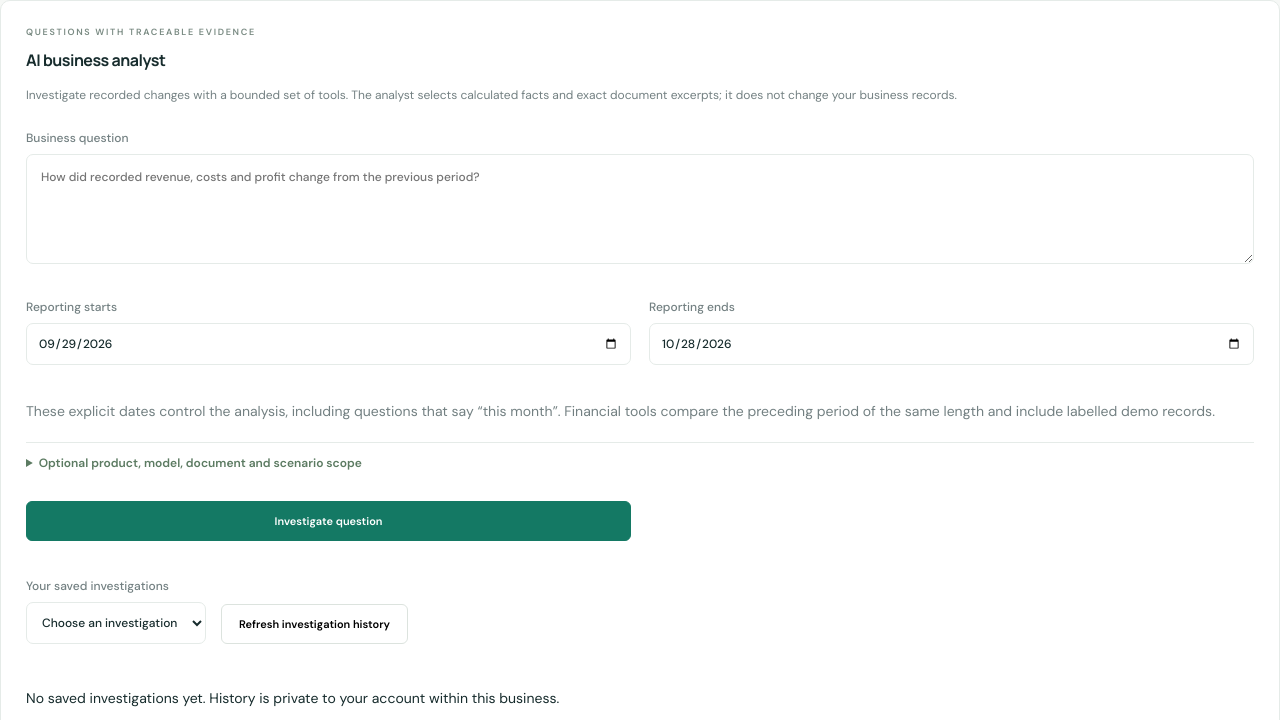
Test case: AI analyst › reports actual provider errors and reloads history without a fabricated answer
The image size is (1280, 720).
Expected: the text "No saved investigations yet" is shown, [26, 689, 559, 707]
Replace the text in the text box labelled "Business question" with "What changed?": (640, 209) [26, 154, 1254, 264]
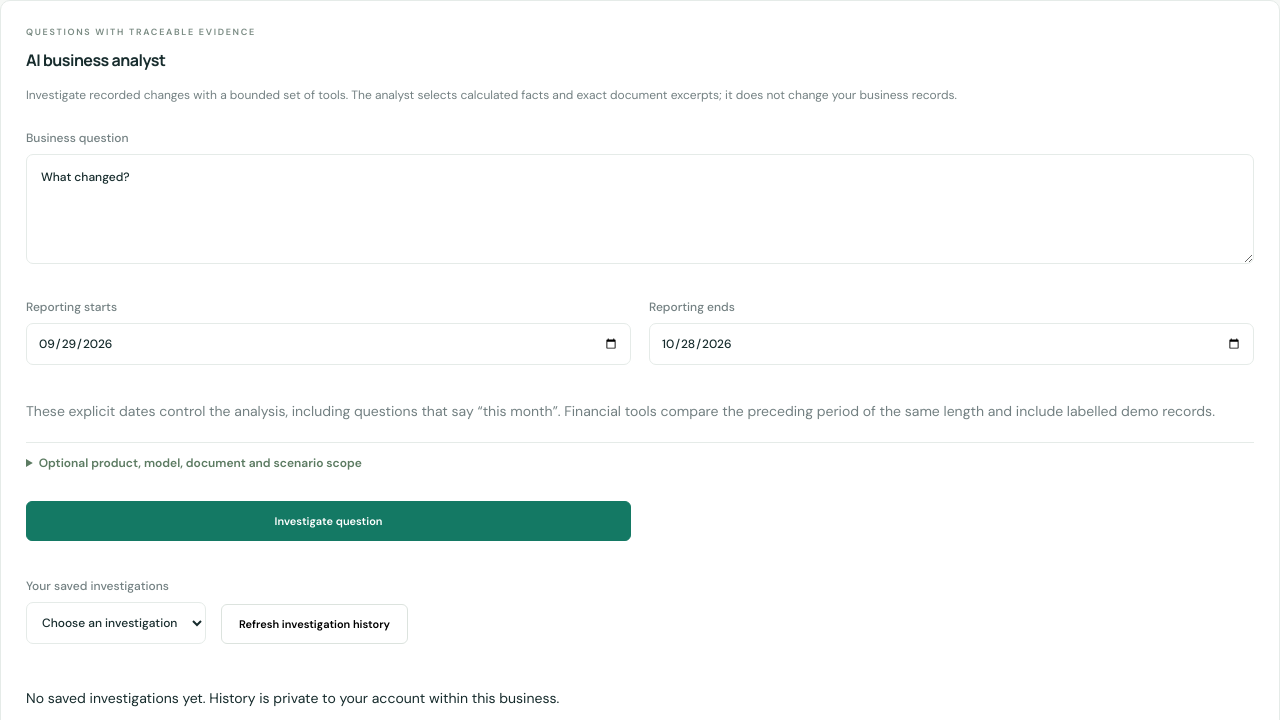
Submit the form named "Investigate question", box [26, 130, 1254, 541]
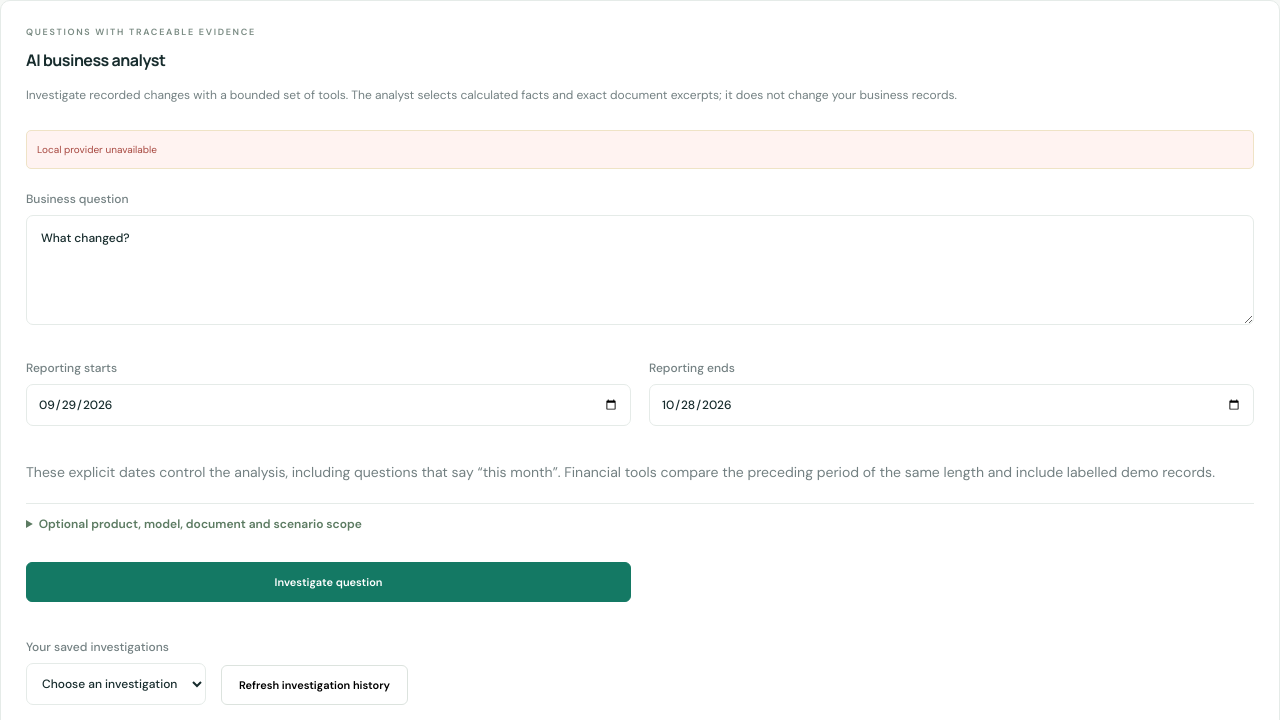
Expected: the message reads "Local provider unavailable", [37, 143, 157, 156]
